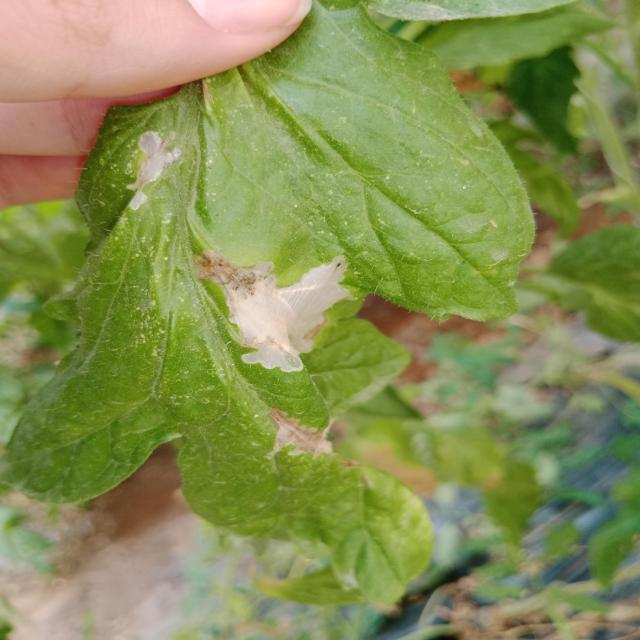Tuta absoluta: (193, 251, 357, 374), (122, 125, 185, 218), (264, 408, 335, 465)
